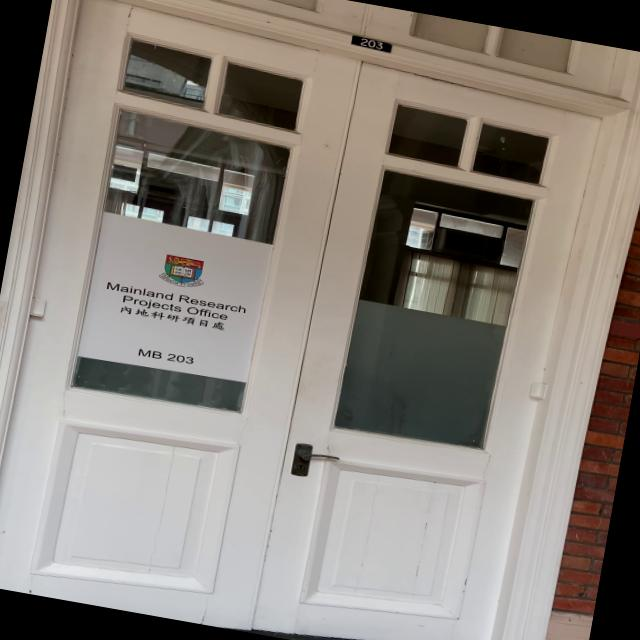room203: (342, 32, 402, 59)
room203Window: (130, 340, 199, 370)
